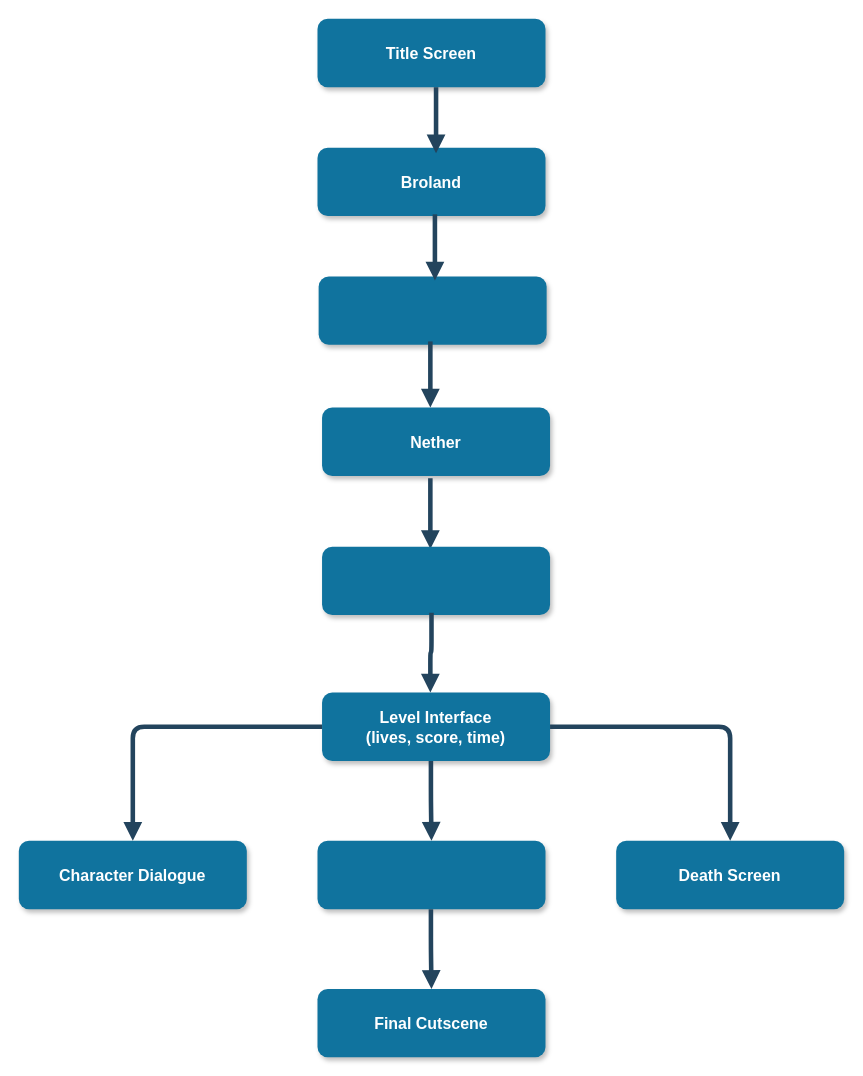
This 863x1076 diagram has some shape labels left out. The shapes that lost their labels are listed below. From the top down, each one's centre as x and y in pixels, then its label:
At point 433,311: "Transition to Nether".
At point 436,582: "Boss Fight Cutscene".
At point 432,876: "Results Screen".
